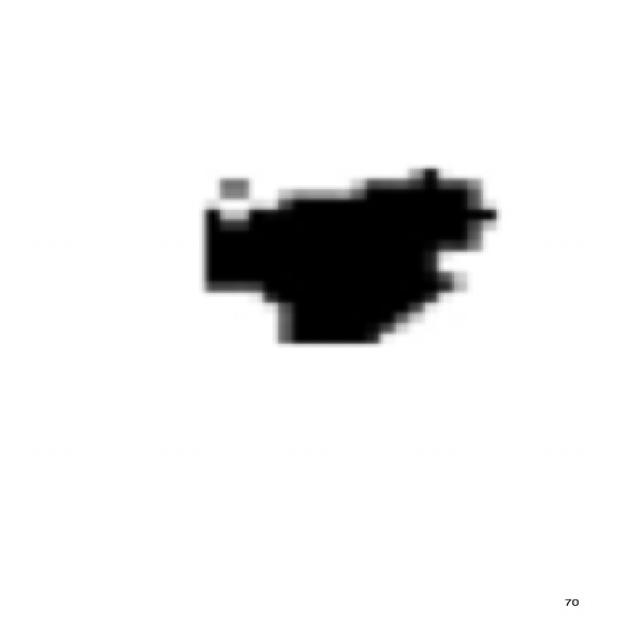0 -zero-: (188, 152, 506, 358)
